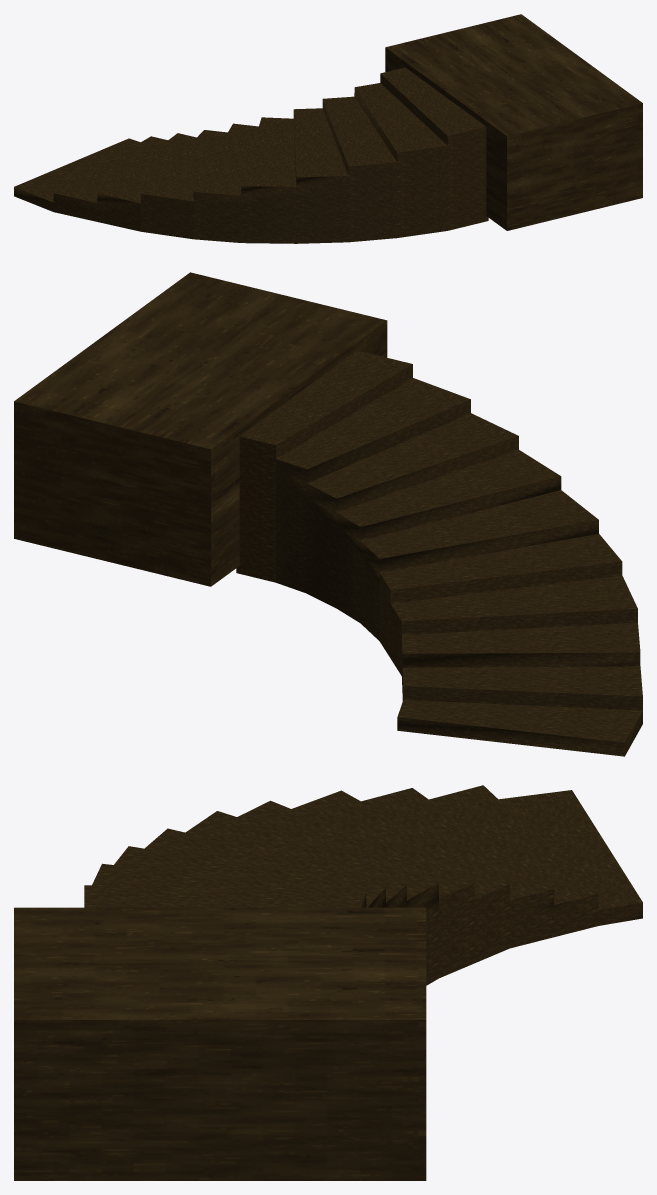
The model's file is stairs.glb.
The picture shows the model from 3 angles, top to bottom: view 1: azimuth 30°, elevation 25°; view 2: azimuth 150°, elevation 25°; view 3: azimuth 270°, elevation 25°; orthographic projection. The views are drawn at different scales.
Parts seen in each view (by area): view 1: stairs_to_telepad; view 2: stairs_to_telepad; view 3: stairs_to_telepad.
Part boxes in pixels (x1,y1,x2,y2): stairs_to_telepad: (14, 14, 642, 243); stairs_to_telepad: (14, 272, 642, 756); stairs_to_telepad: (14, 785, 642, 1180).
Size of the model in its own units: 10.25 by 2.12 by 7.09.
Materials: 1 (1 with a texture image).
